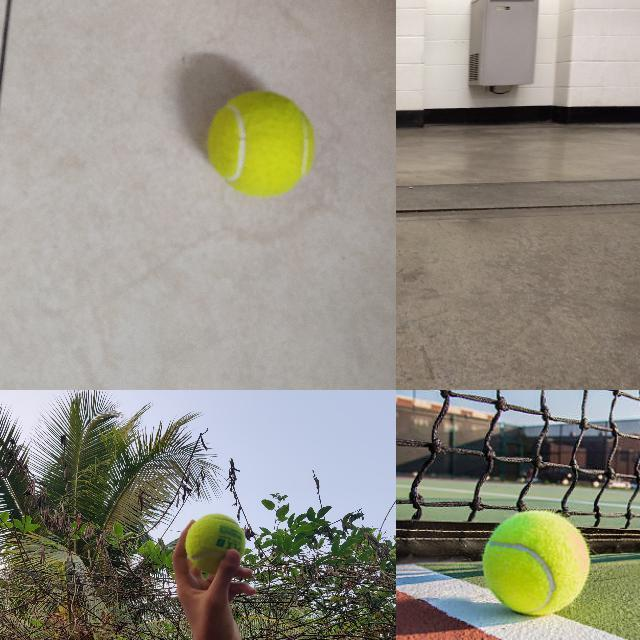tennis-ball: (207, 90, 316, 199), (482, 510, 590, 615), (184, 513, 246, 575)
